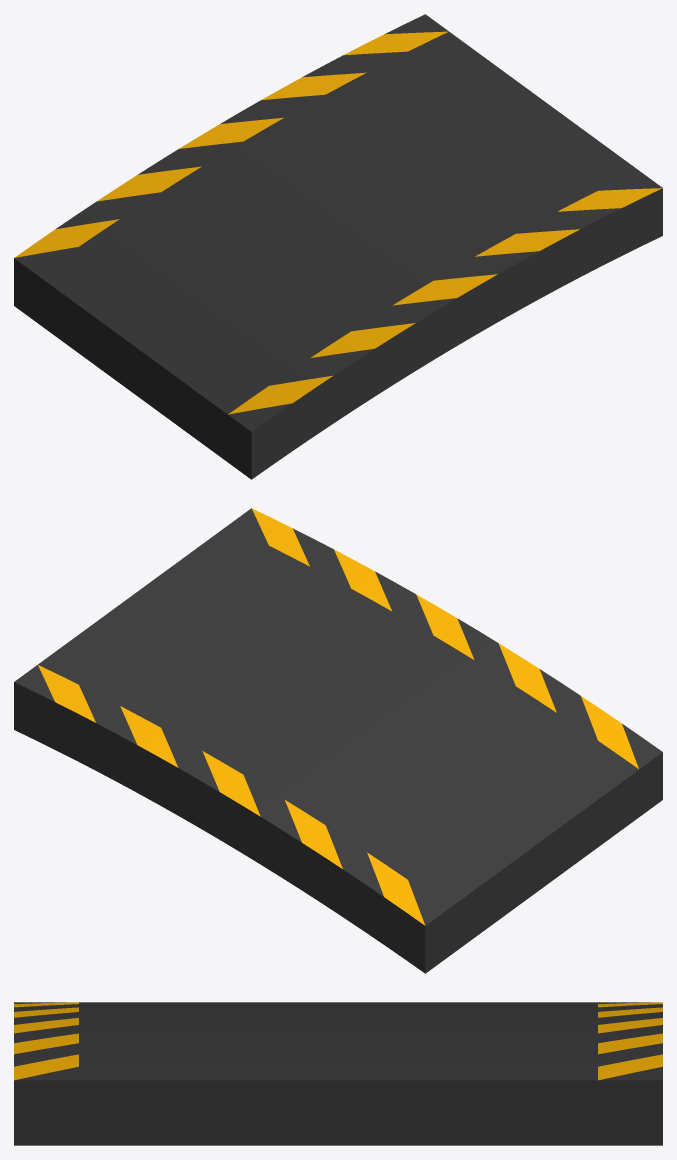
3 renders of one model, top to bottom at view 1: azimuth 30°, elevation 25°; view 2: azimuth 150°, elevation 25°; view 3: azimuth 270°, elevation 25°, orthographic. The views are drawn at different scales.
Parts seen in each view (by area): view 1: e12; view 2: e12; view 3: e12.
Boxes of the visible parts, <box> form: e12: <box>14,14,662,479</box>; e12: <box>14,508,662,973</box>; e12: <box>14,1002,662,1145</box>.
Bounding box in the file's own units: 9 × 4 × 9.
